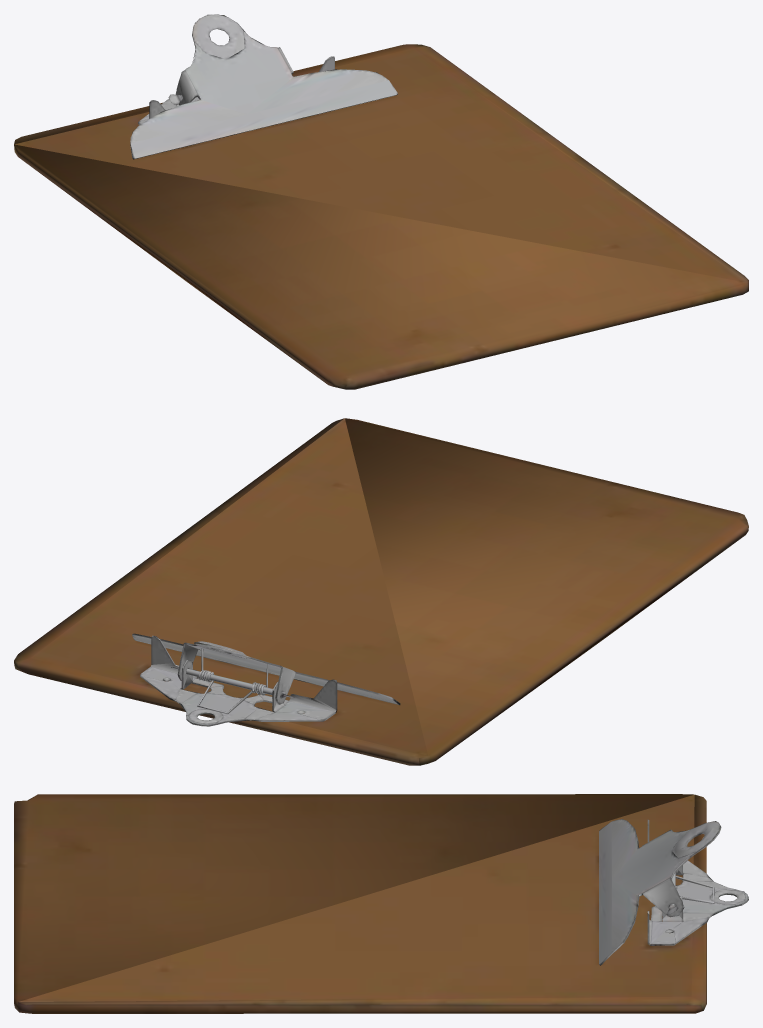
File: clipboard.glb
3 views of the same model, one above another, from view 1: azimuth 30°, elevation 25°; view 2: azimuth 150°, elevation 25°; view 3: azimuth 270°, elevation 25° (orthographic). The views are drawn at different scales.
Visible parts, largest first — view 1: clipboard; view 2: clipboard; view 3: clipboard.
Part boxes in pixels (x1=…): clipboard: x1=14, y1=14, x2=748, y2=389; clipboard: x1=14, y1=418, x2=748, y2=765; clipboard: x1=14, y1=794, x2=748, y2=1013.
Size of the model in its own units: 0.2283 by 0.042 by 0.3364.
Materials: 1 (1 with a texture image).
